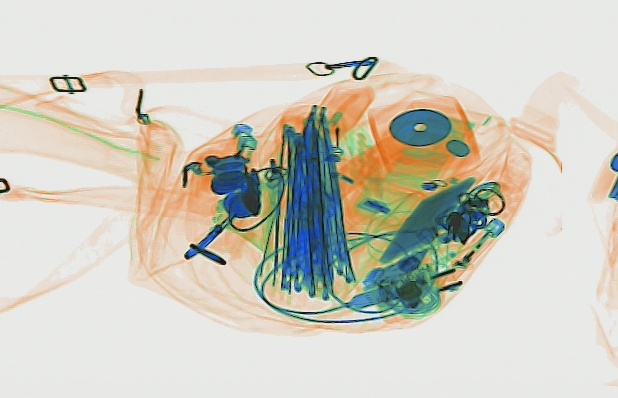lighter: (435, 217, 505, 287), (226, 121, 258, 222)
